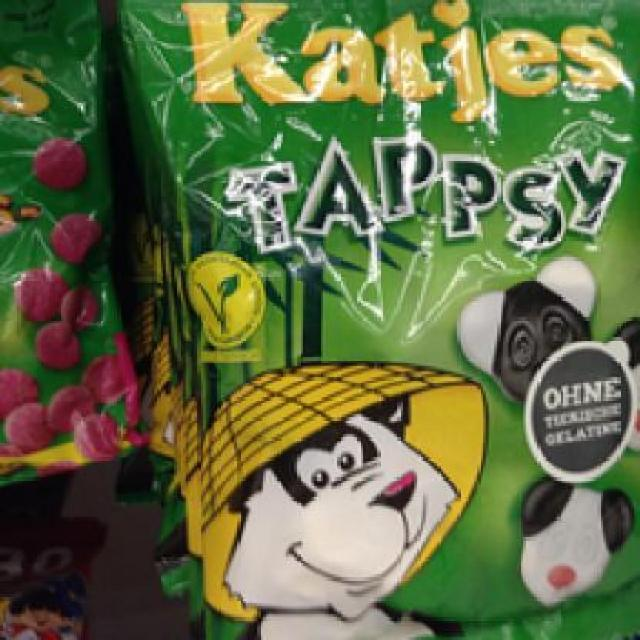Candy: (117, 0, 632, 637)
